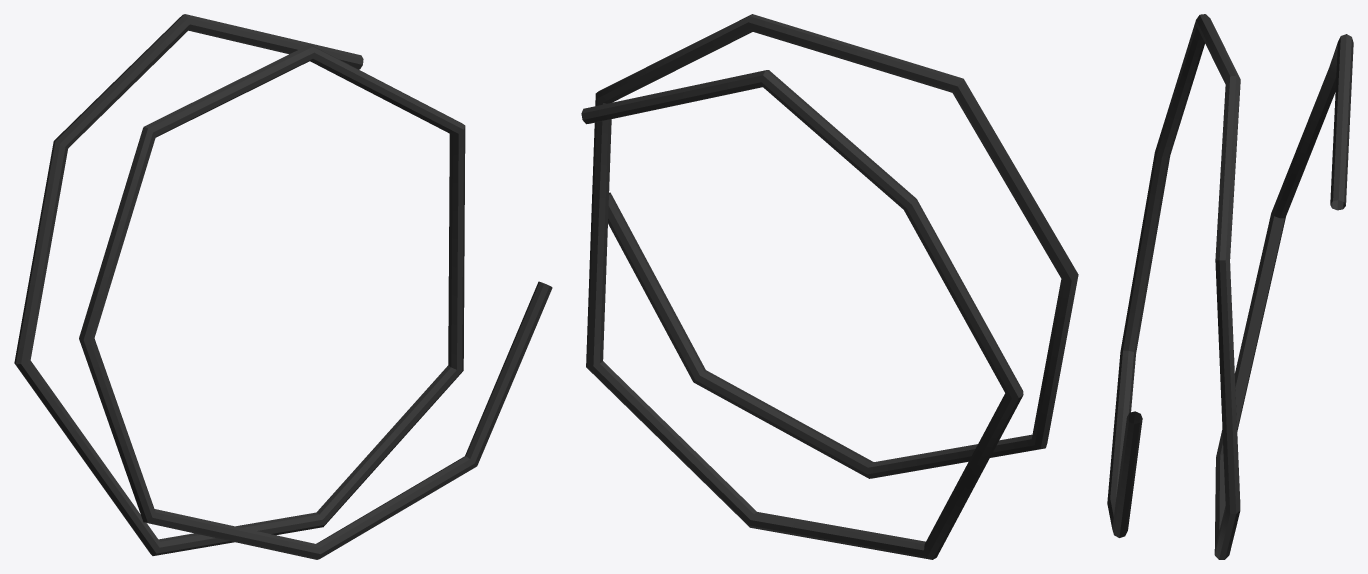
File: obj_iron_001.FBX
3 renders of one model, left to right at view 1: azimuth 30°, elevation 25°; view 2: azimuth 150°, elevation 25°; view 3: azimuth 270°, elevation 25°, orthographic. The views are drawn at different scales.
Parts seen in each view (by area): view 1: obj_iron_001; view 2: obj_iron_001; view 3: obj_iron_001.
Part boxes in pixels (left/top/right/bottom): obj_iron_001: left=14, top=14, right=552, bottom=559; obj_iron_001: left=581, top=14, right=1078, bottom=559; obj_iron_001: left=1107, top=14, right=1353, bottom=559.
Bounding box in the file's own units: 100 × 100 × 45.7.
